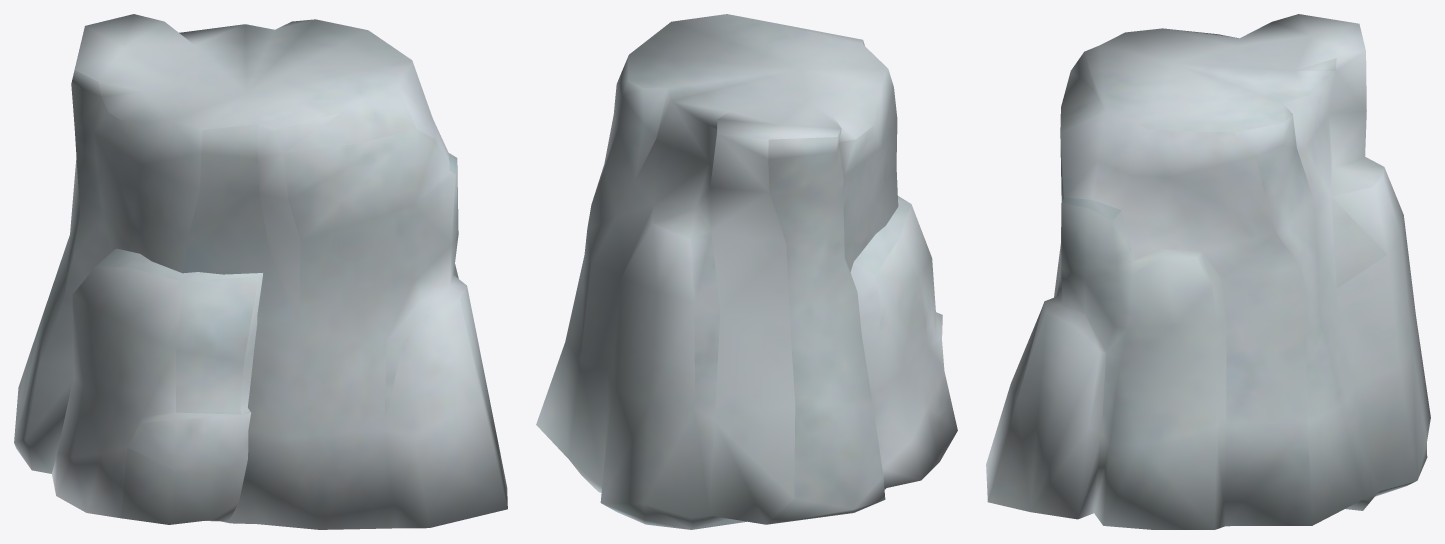
Rendered from P_RockSpire_Shelf08.obj.
3 renders of one model, left to right at view 1: azimuth 30°, elevation 25°; view 2: azimuth 150°, elevation 25°; view 3: azimuth 270°, elevation 25°, orthographic. The views are drawn at different scales.
Size of the model in its own units: 43.06 by 45.58 by 45.28.
